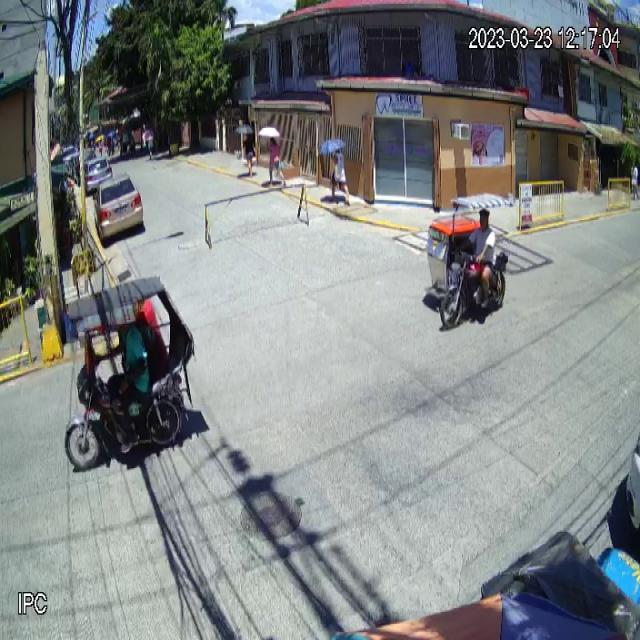Tricycle: (64, 274, 197, 476), (423, 193, 516, 334)
